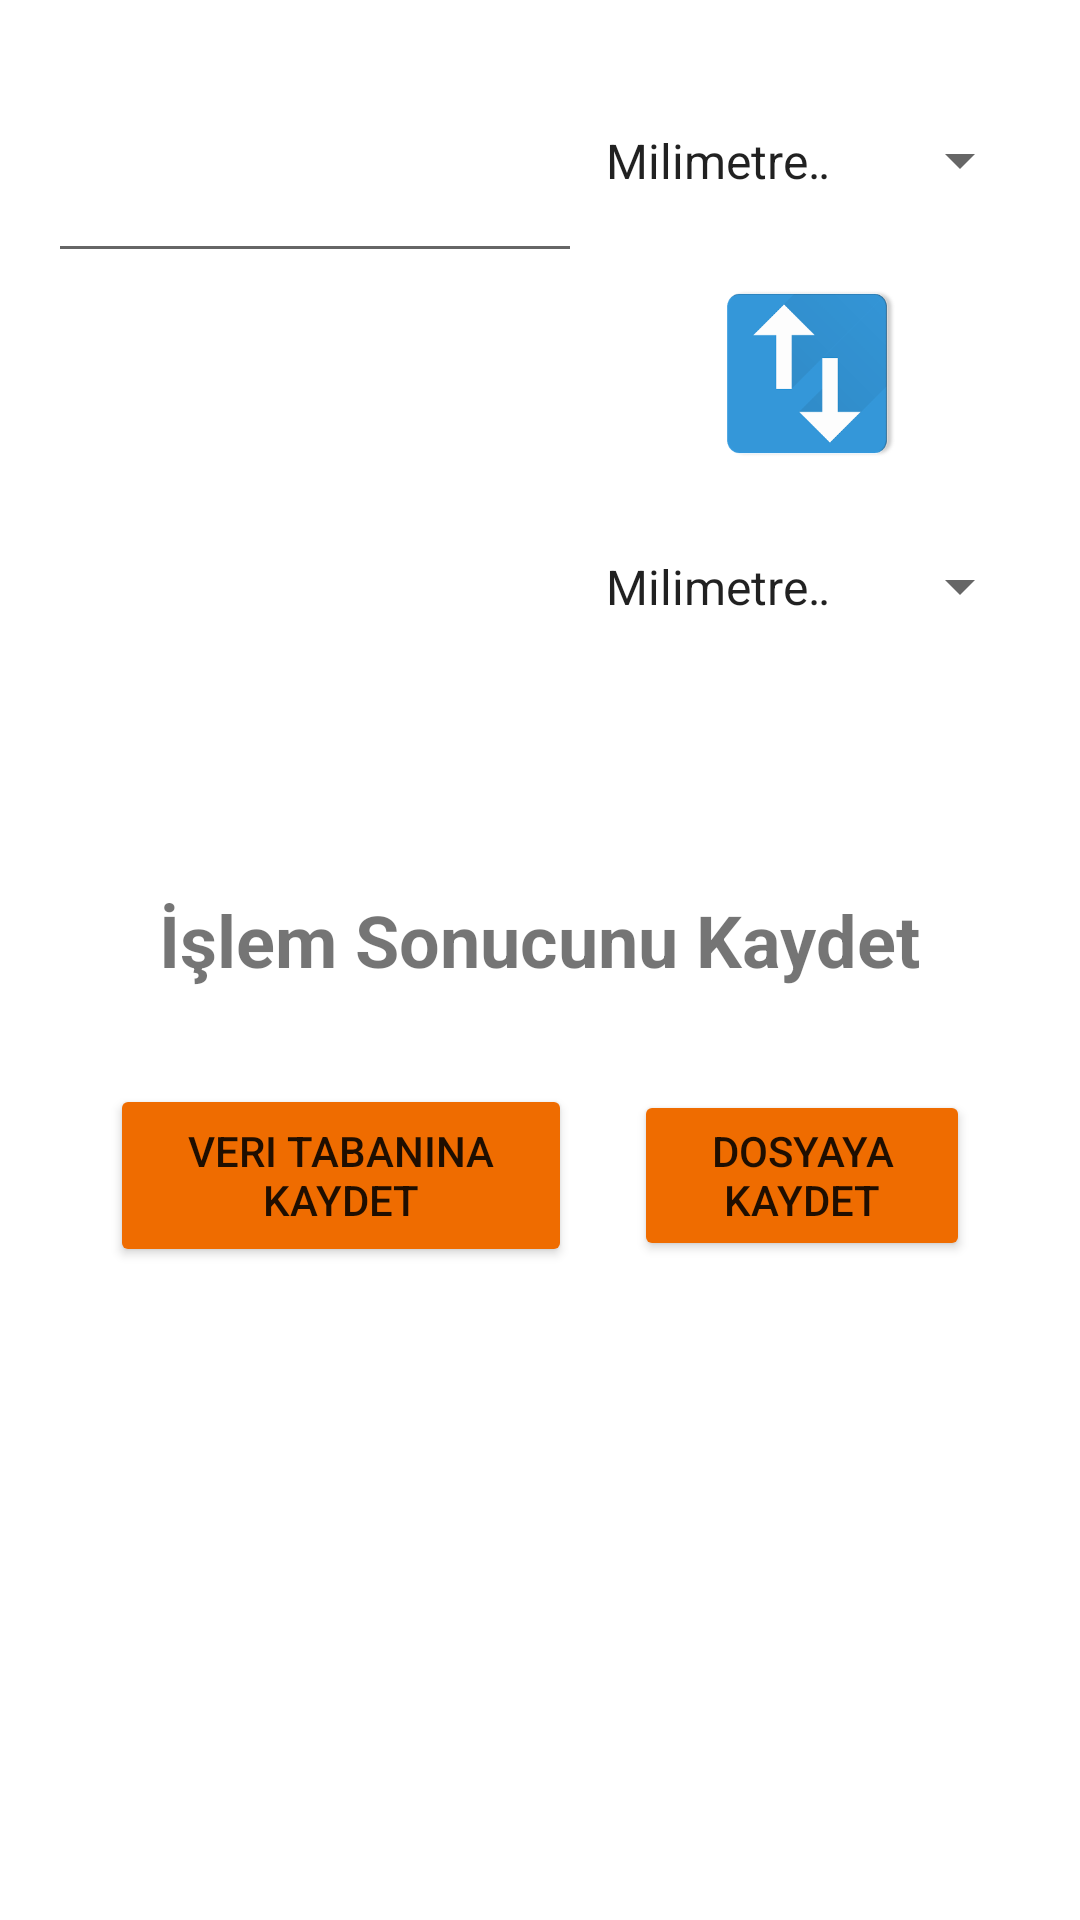

Icon click points for this 1080x1920 phone screenshot, format (x,y):
converter: (809,373)
